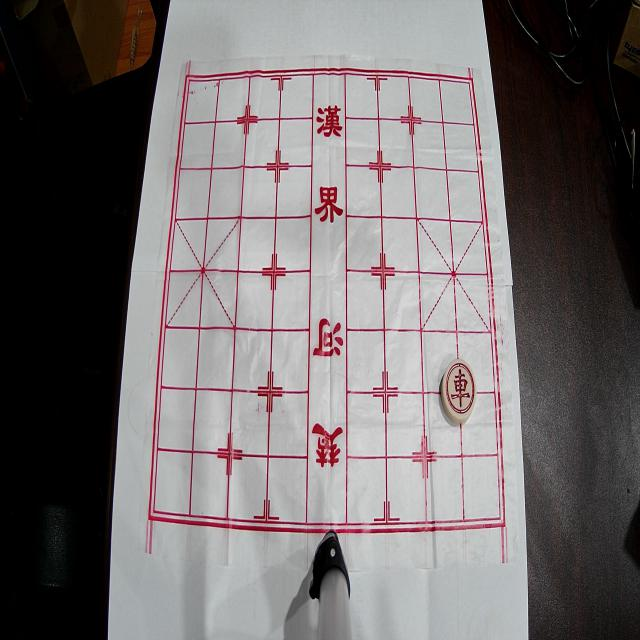red-chariot: (442, 359, 476, 423)
